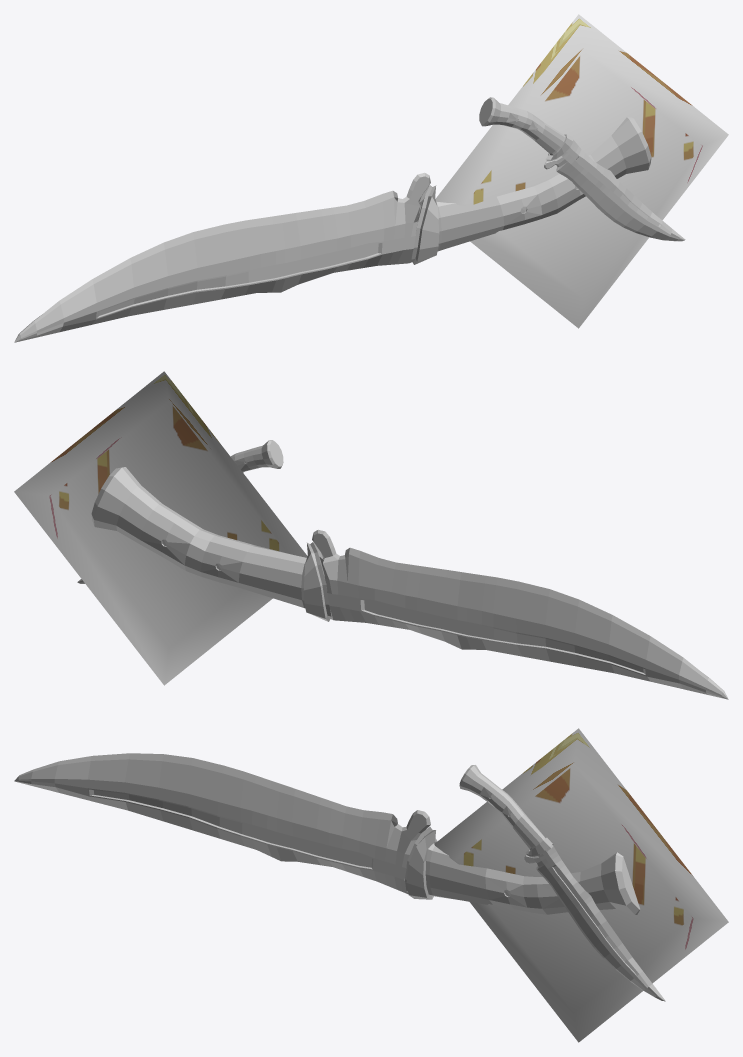
Rendered from sange.obj.
3 renders of one model, top to bottom at view 1: azimuth 30°, elevation 25°; view 2: azimuth 150°, elevation 25°; view 3: azimuth 330°, elevation 25°, orthographic.
Visible parts, largest first — view 1: item_blade, blade; view 2: item_blade, blade; view 3: item_blade, blade.
Part boxes in pixels (x1=…): item_blade: x1=435, y1=14, x2=728, y2=328; blade: x1=14, y1=117, x2=651, y2=342; item_blade: x1=14, y1=371, x2=307, y2=685; blade: x1=91, y1=467, x2=728, y2=699; item_blade: x1=434, y1=728, x2=728, y2=1042; blade: x1=14, y1=753, x2=640, y2=914.
Size of the model in its own units: 336 by 141 by 23.32.
